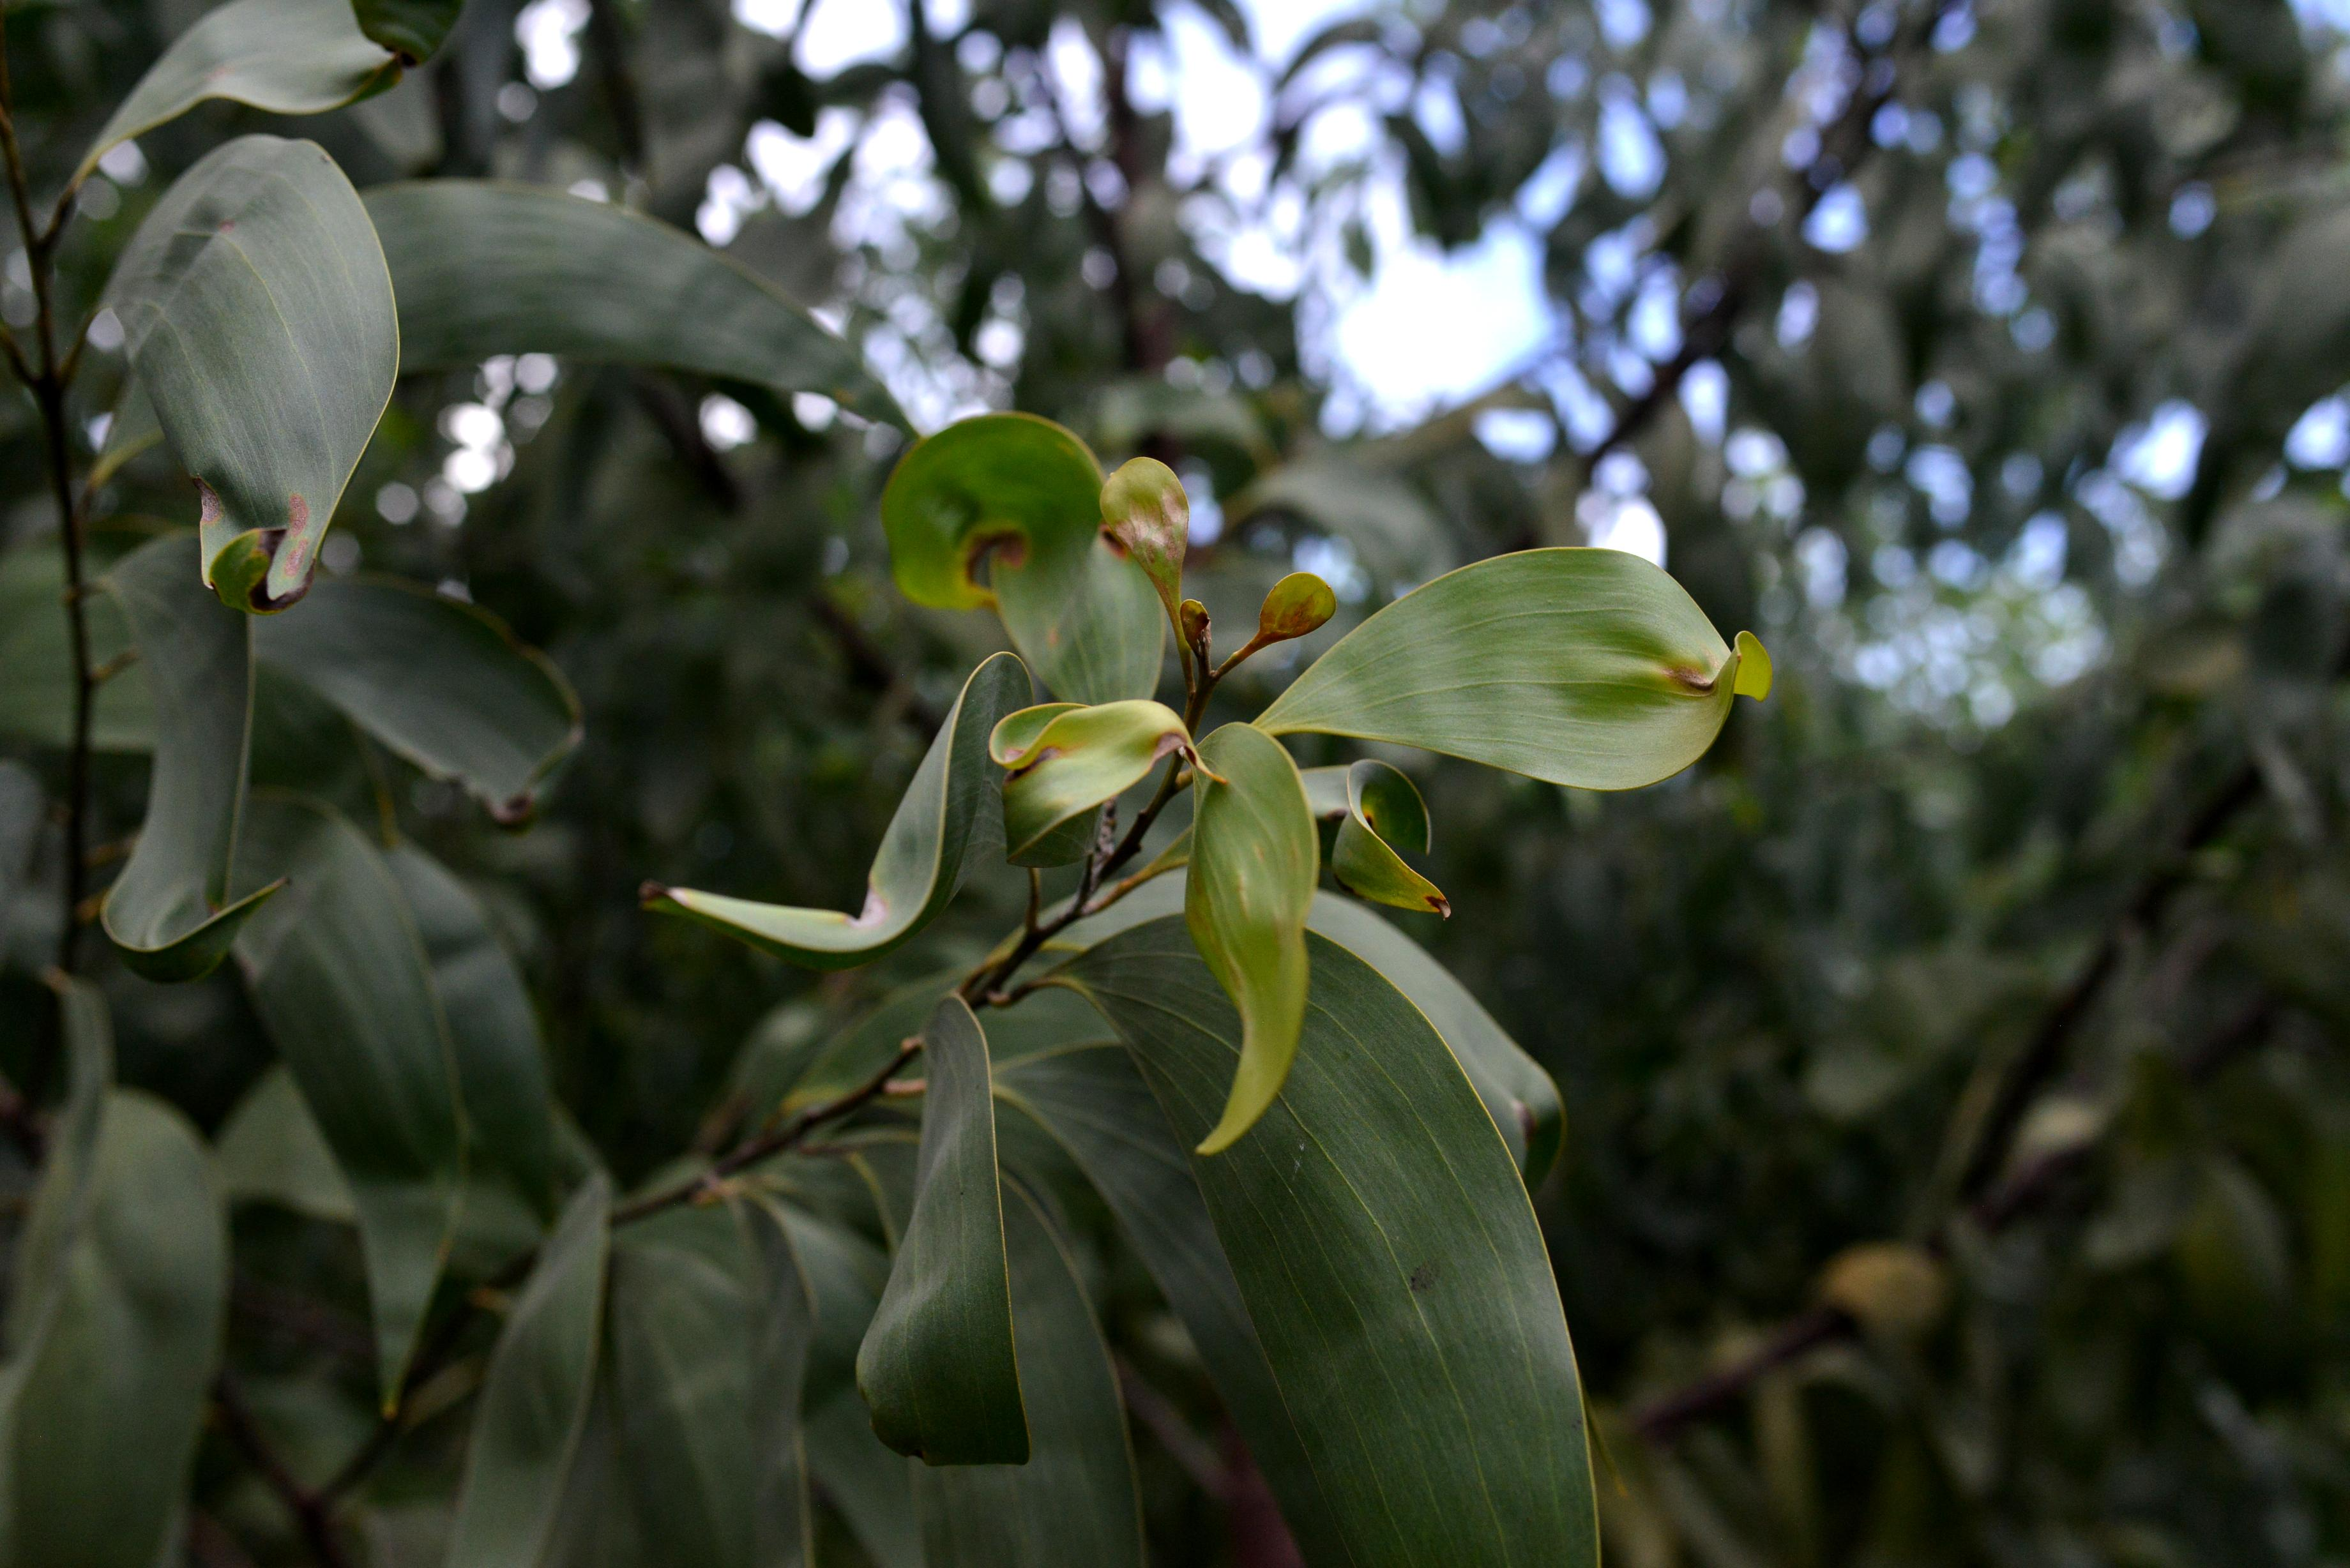Pasalora: (89, 138, 408, 597), (875, 406, 1330, 668), (1314, 546, 1776, 784), (674, 681, 982, 1001), (1160, 724, 1323, 1162), (108, 618, 294, 987), (108, 0, 479, 126), (990, 696, 1197, 863), (1298, 765, 1466, 933)
